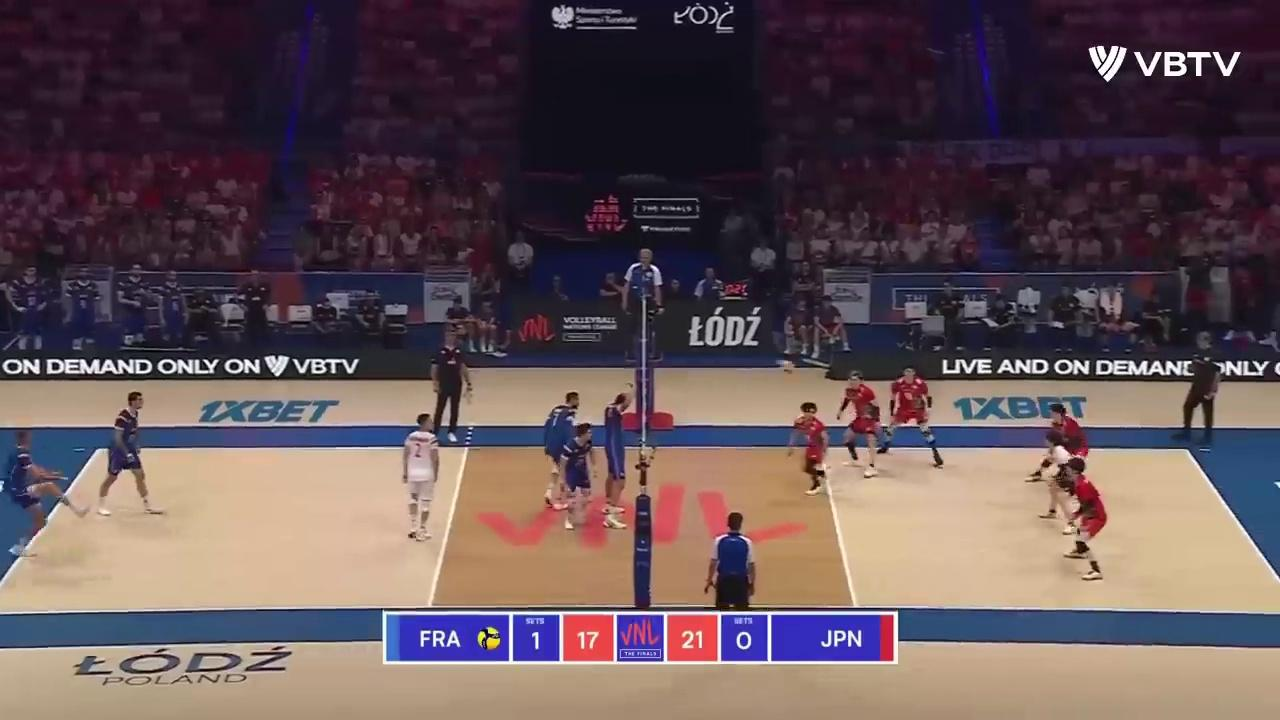ball: (780, 360, 794, 375)
